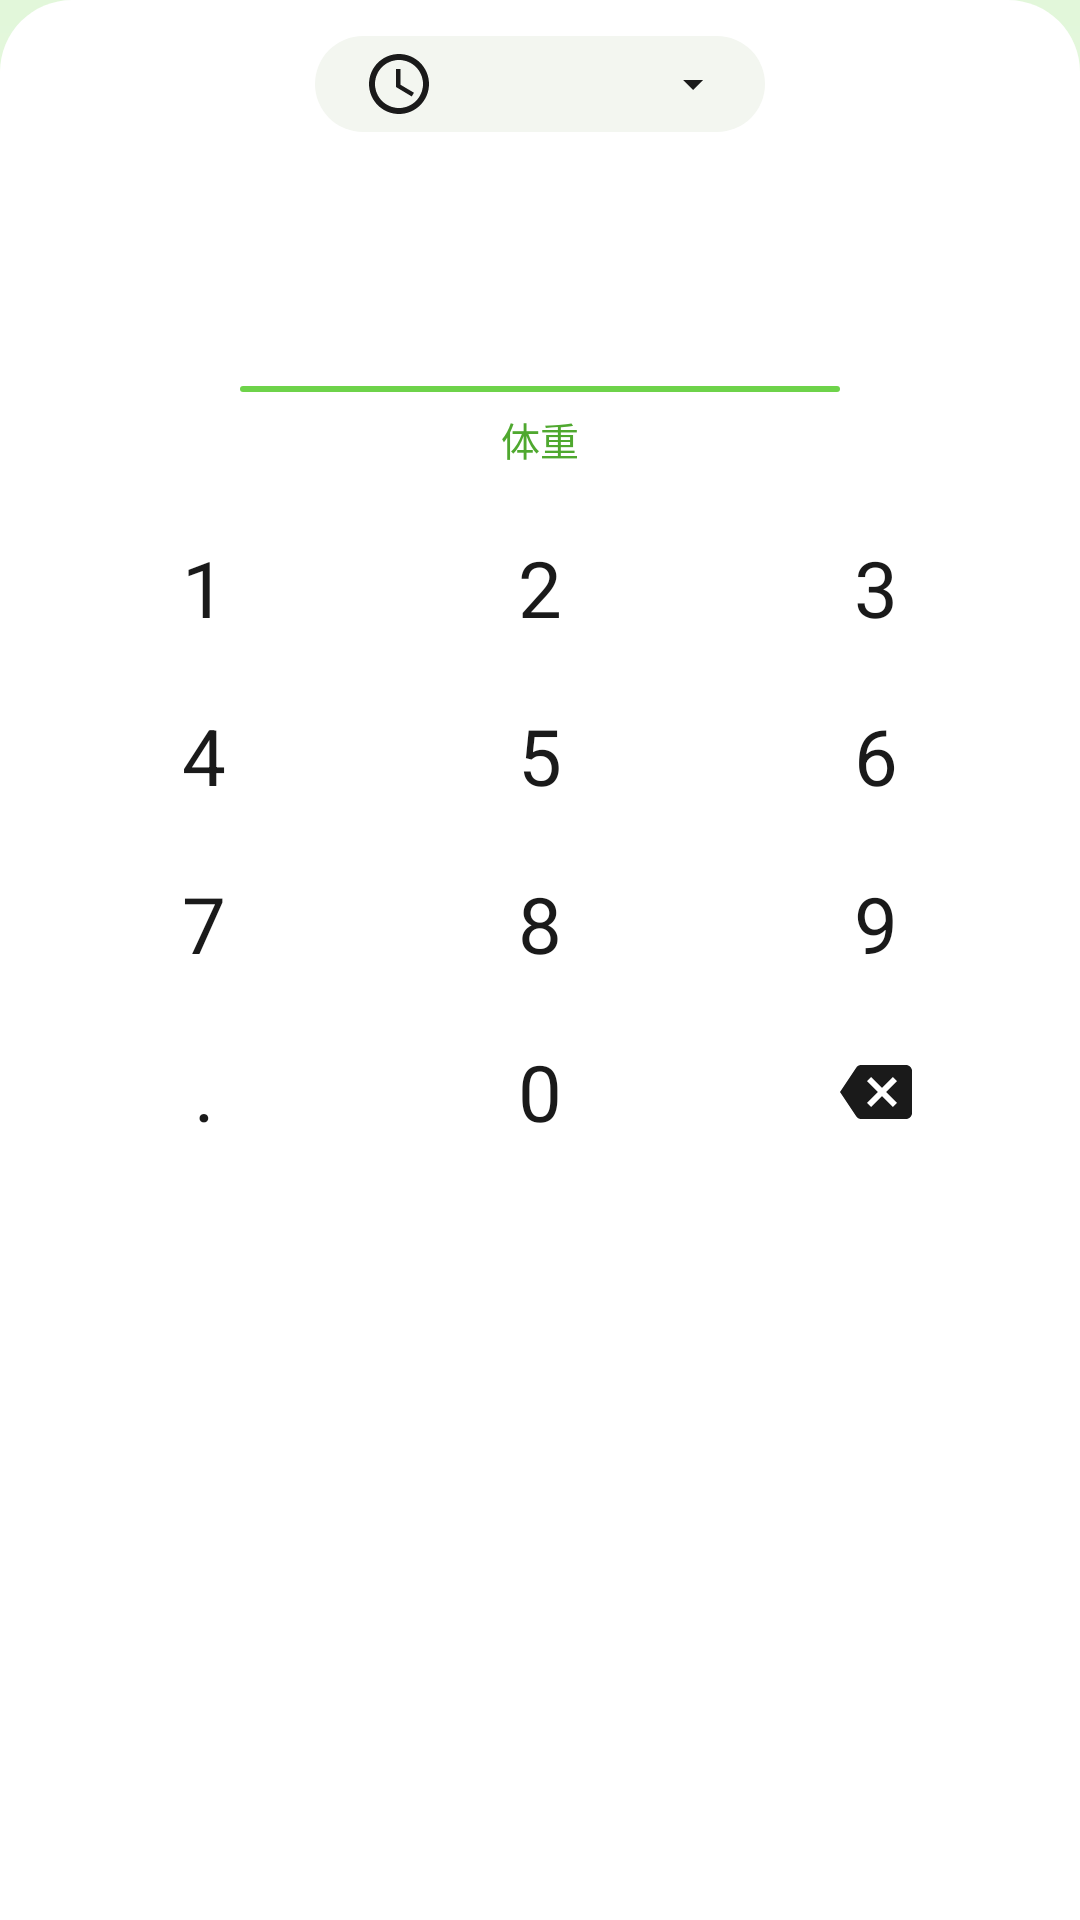

Where icons sit on this 1080 × 1920 app screen, as [x1=x1, y1=y1, x2=x2, y2=y2]:
删除: [x1=840, y1=1065, x2=912, y2=1119]
